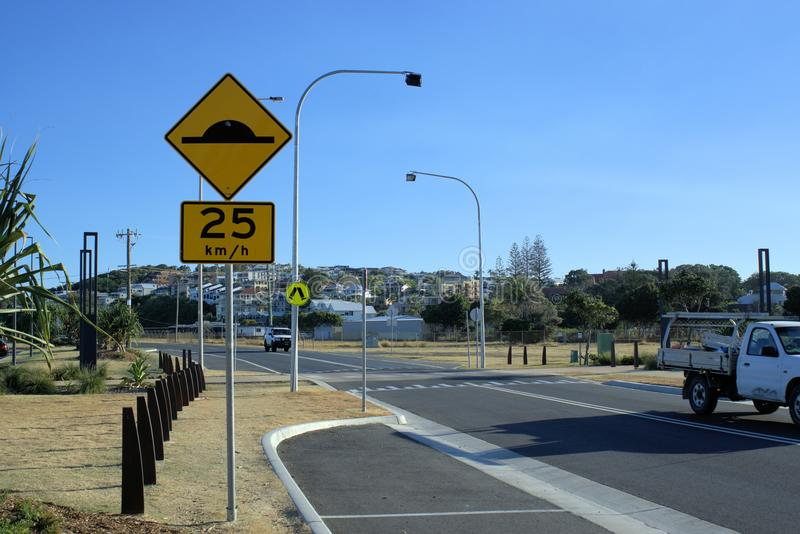speed-breaker: (165, 74, 292, 204)
